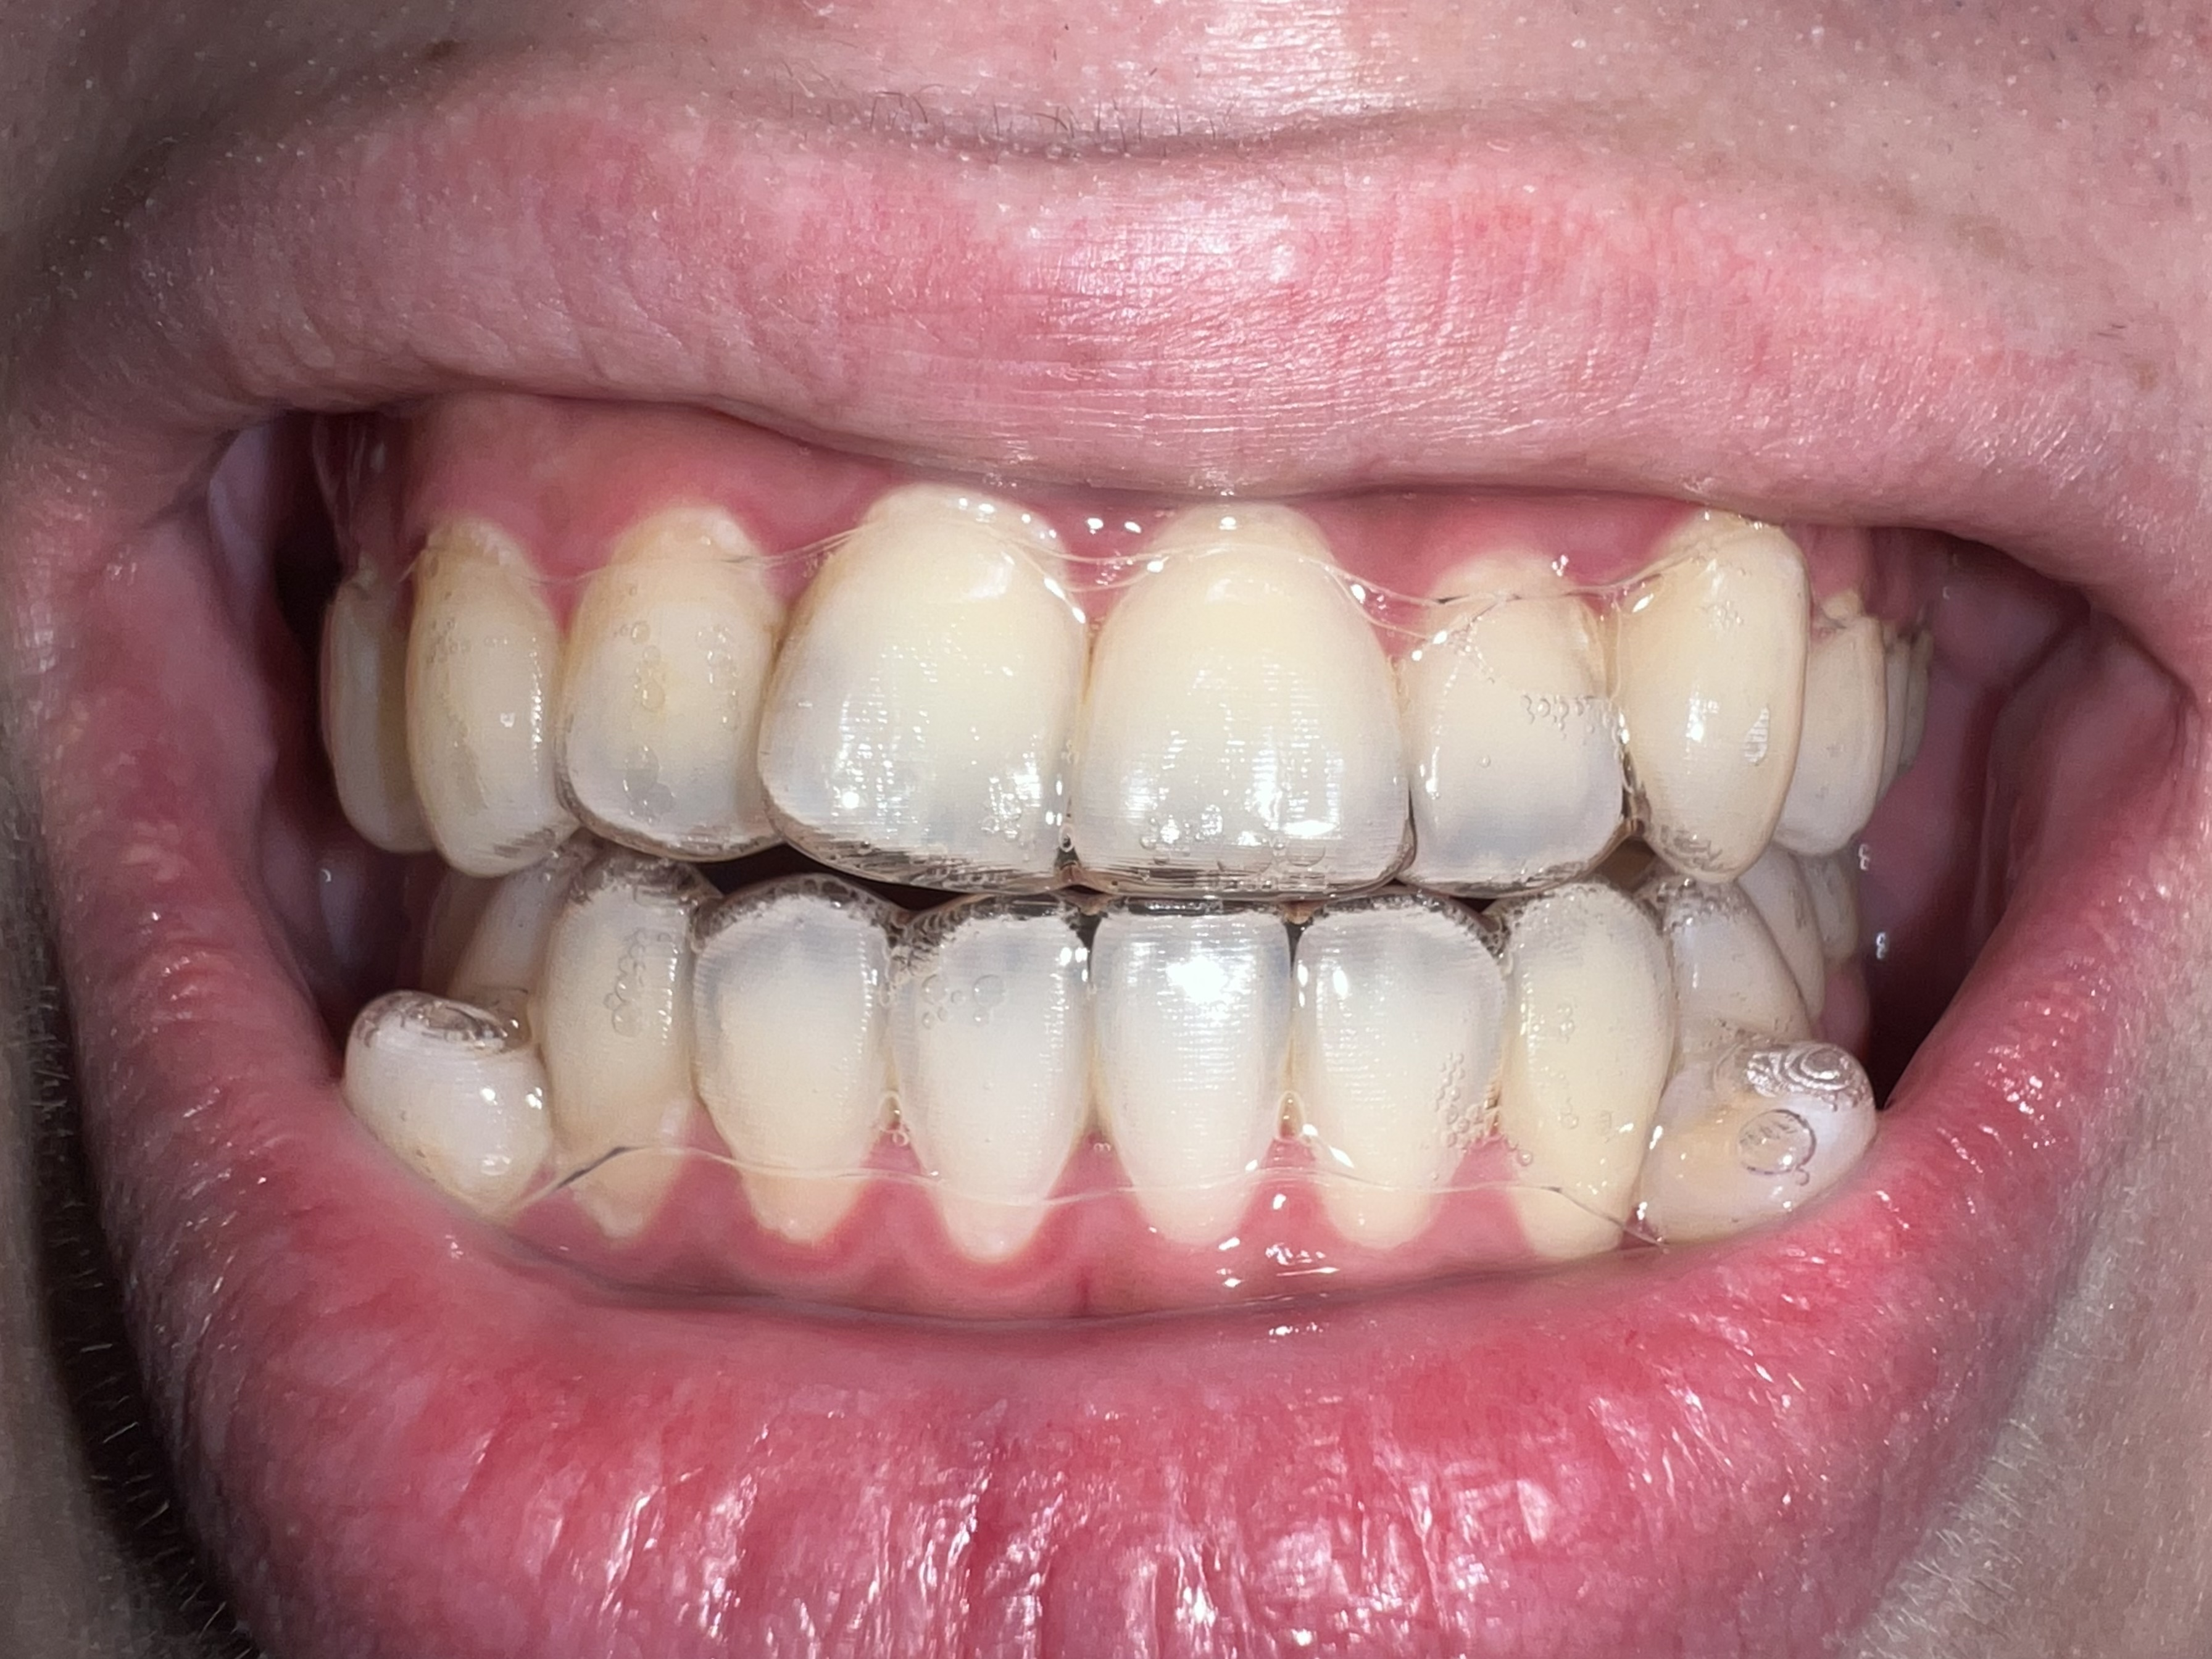teeth: (768, 491, 1081, 870), (1085, 511, 1394, 874), (1287, 907, 1492, 1257), (570, 513, 781, 841), (885, 924, 1089, 1252), (698, 894, 885, 1246), (1413, 565, 1622, 876), (1092, 915, 1287, 1242), (1622, 528, 1798, 878), (1513, 881, 1674, 1248), (407, 520, 565, 870), (546, 883, 694, 1228), (348, 989, 548, 1215), (1642, 1052, 1863, 1228), (302, 557, 426, 850), (1794, 609, 1876, 848), (422, 865, 563, 1000), (1676, 894, 1800, 1046), (1755, 861, 1820, 1000)
